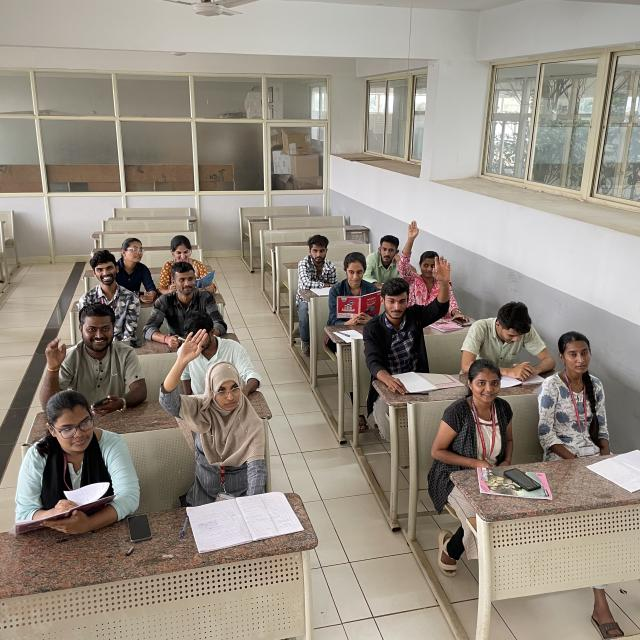Hand Rising: (154, 315, 272, 488), (368, 252, 456, 374), (399, 219, 466, 308)
Reading: (18, 396, 137, 530), (464, 303, 558, 393), (154, 236, 220, 300), (329, 253, 383, 327)
